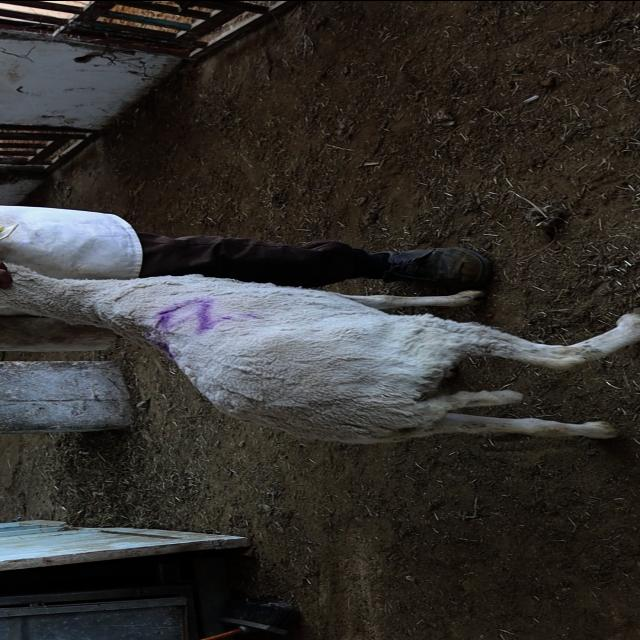Score_2: (0, 261, 639, 443)
